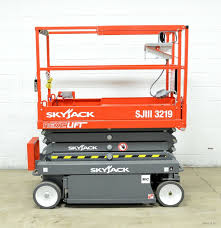Scissor Lift: (25, 23, 190, 209)
